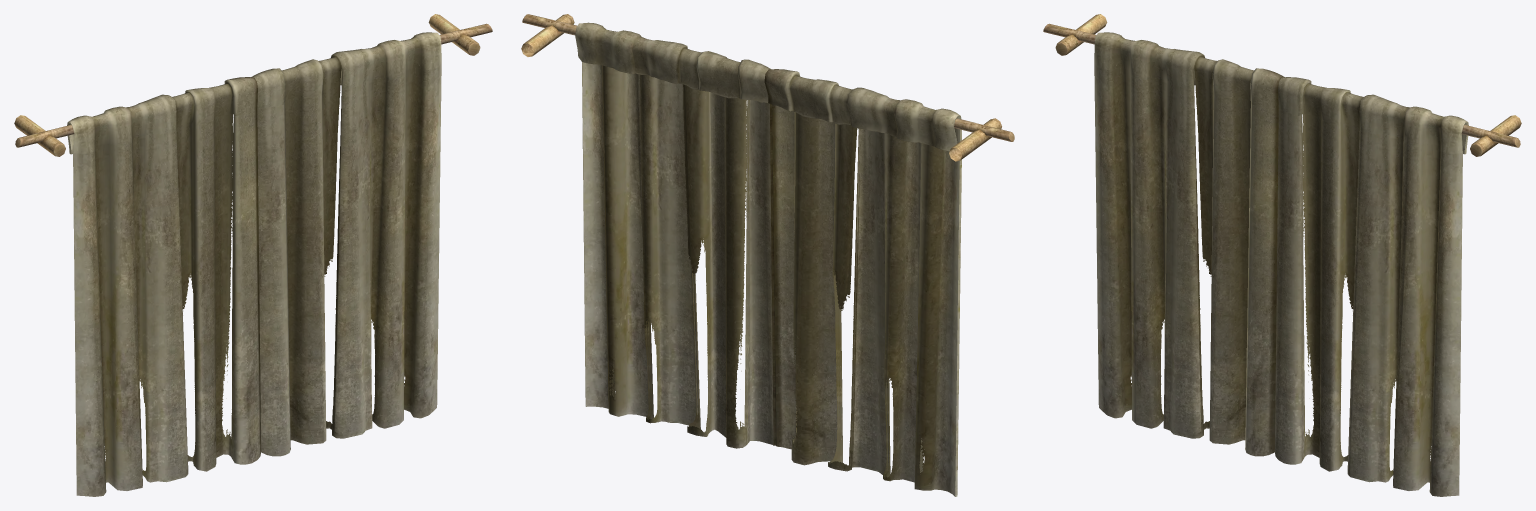
3 renders of one model, left to right at view 1: azimuth 30°, elevation 25°; view 2: azimuth 150°, elevation 25°; view 3: azimuth 330°, elevation 25°, orthographic. The views are drawn at different scales.
Visible parts, largest first — view 1: SM_Curtains_01v1_Single_Open_LOD0; view 2: SM_Curtains_01v1_Single_Open_LOD0; view 3: SM_Curtains_01v1_Single_Open_LOD0.
Boxes of the visible parts, x1=… form: SM_Curtains_01v1_Single_Open_LOD0: x1=14, y1=14, x2=492, y2=496; SM_Curtains_01v1_Single_Open_LOD0: x1=521, y1=14, x2=1014, y2=496; SM_Curtains_01v1_Single_Open_LOD0: x1=1043, y1=14, x2=1521, y2=496.
Bounding box in the file's own units: 2.56 × 1.94 × 0.3669.
